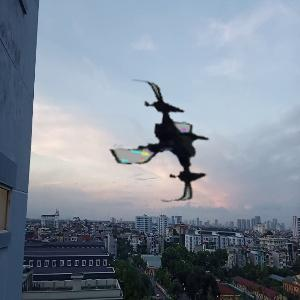drone: (106, 84, 226, 204)
